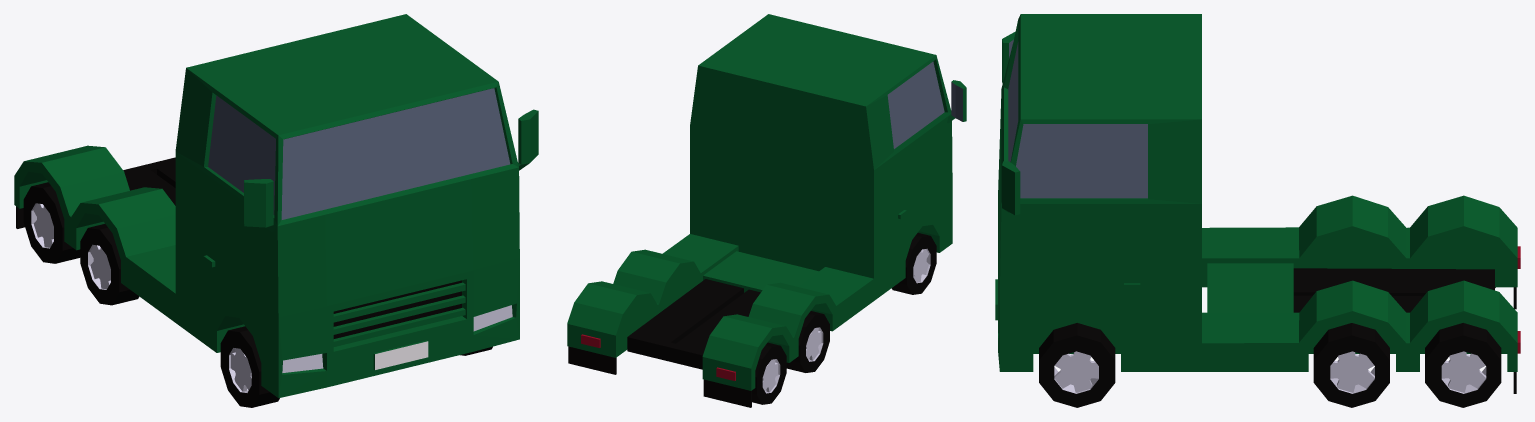
File: truck.glb
3 views of the same model, side by side, from view 1: azimuth 30°, elevation 25°; view 2: azimuth 150°, elevation 25°; view 3: azimuth 270°, elevation 25° (orthographic). The views are drawn at different scales.
Parts seen in each view (by area): view 1: Truck, Truck wheel front right, Truck wheel rear right 2, Truck wheel rear right; view 2: Truck, Truck wheel rear right, Truck wheel front right, Truck wheel rear right 2; view 3: Truck, Truck wheel front left, Truck wheel rear left 2, Truck wheel rear left.
Part boxes in pixels (box(x1,y1,x2,y2)): Truck: box(14, 14, 538, 398); Truck wheel front right: box(220, 326, 279, 407); Truck wheel rear right 2: box(23, 182, 80, 263); Truck wheel rear right: box(80, 224, 139, 305); Truck: box(567, 14, 966, 407); Truck wheel rear right: box(786, 311, 829, 372); Truck wheel front right: box(891, 233, 936, 294); Truck wheel rear right 2: box(752, 342, 786, 404); Truck: box(995, 14, 1520, 393); Truck wheel front left: box(1039, 323, 1115, 407); Truck wheel rear left 2: box(1425, 323, 1501, 407); Truck wheel rear left: box(1313, 323, 1389, 407).
Size of the model in its own units: 3.41 by 3.21 by 5.38.
